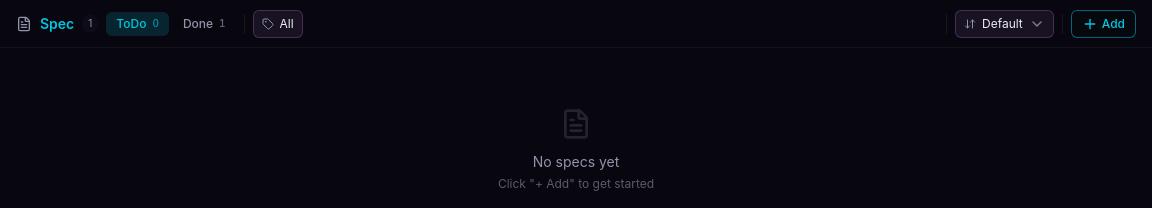
it: SpecsBoard ToDo / Done tabs › honours the general row view tier in the Done bucket
Click the tab with test id "specs-tab-done": [204, 24] box [173,12,236,36]
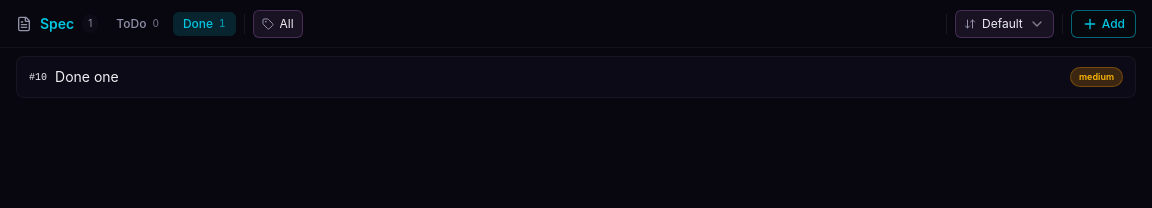
Result: the text "Done one" is shown at [55,68,119,85]
